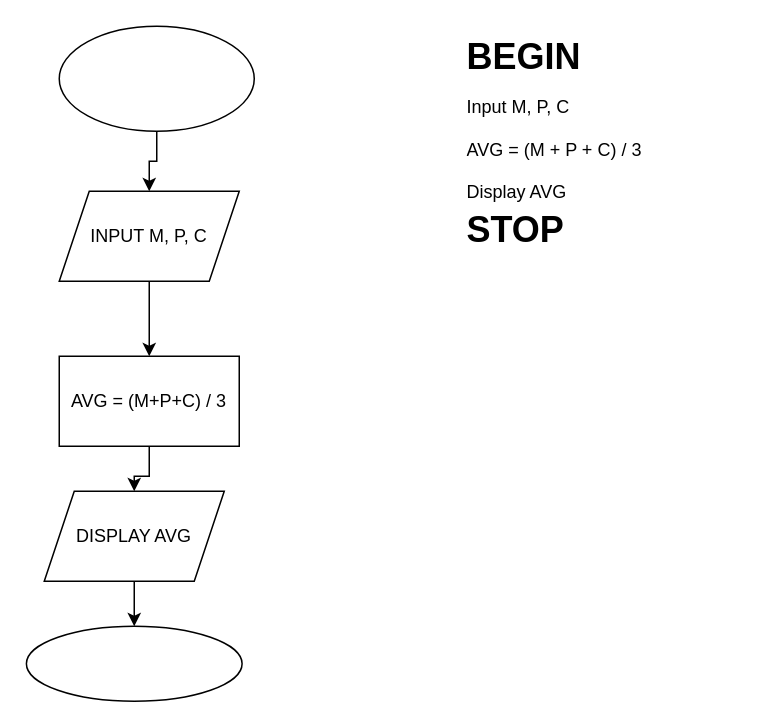
Some shapes in this 761 by 728 pixel diagram are drawn without their labels. The shapes that lost their labels are listed below. From the top down, each one's centre as x and y in pixels, then its label:
At point 156,78: "START".
At point 133,663: "STOP".
